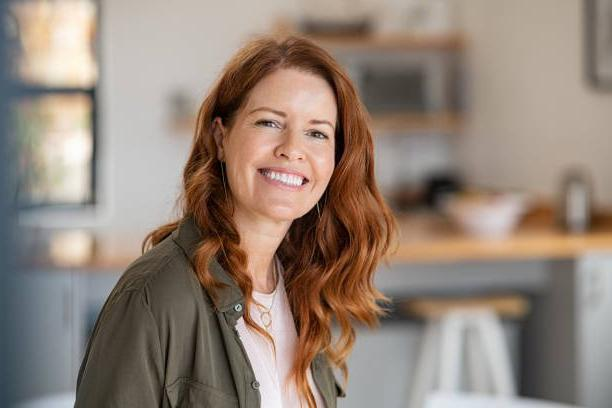Sober: (242, 87, 334, 209)
